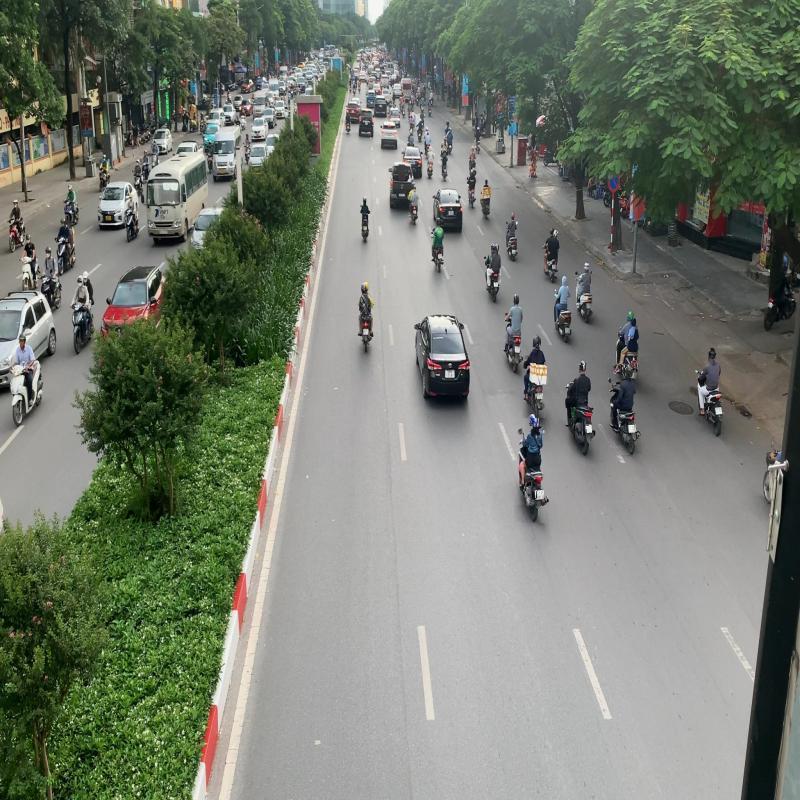helmet: (624, 365, 634, 379), (578, 358, 588, 371), (530, 412, 538, 428), (532, 334, 540, 347), (627, 310, 634, 321), (710, 347, 716, 359)
licenseplate: (536, 489, 545, 500), (716, 407, 724, 415), (585, 424, 592, 433), (628, 424, 635, 433), (536, 392, 543, 400)
motorcyclist: (516, 412, 550, 523), (565, 359, 597, 456), (608, 364, 640, 456), (695, 347, 724, 436), (522, 333, 548, 418)
